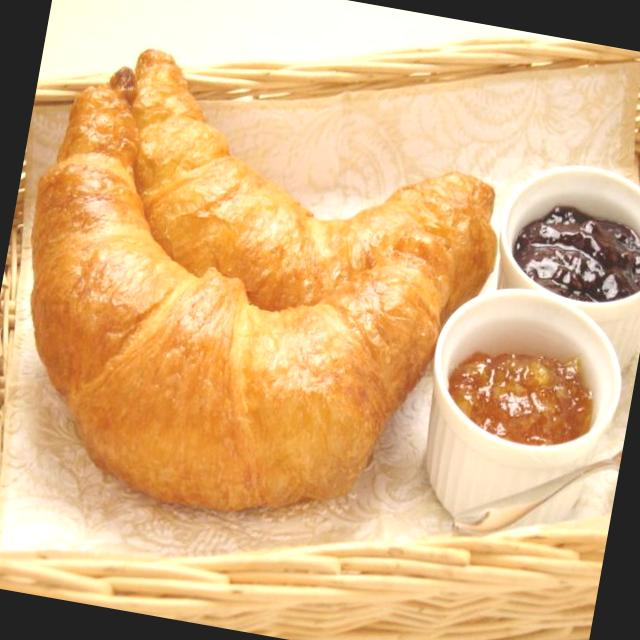Croissant: (0, 32, 487, 557)
